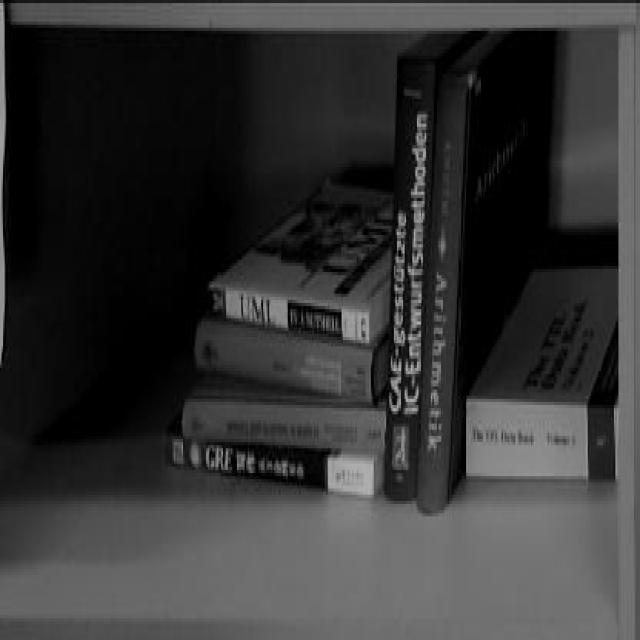book: (467, 264, 629, 480), (194, 194, 408, 342), (380, 47, 440, 508), (434, 47, 468, 516), (169, 432, 373, 505)
